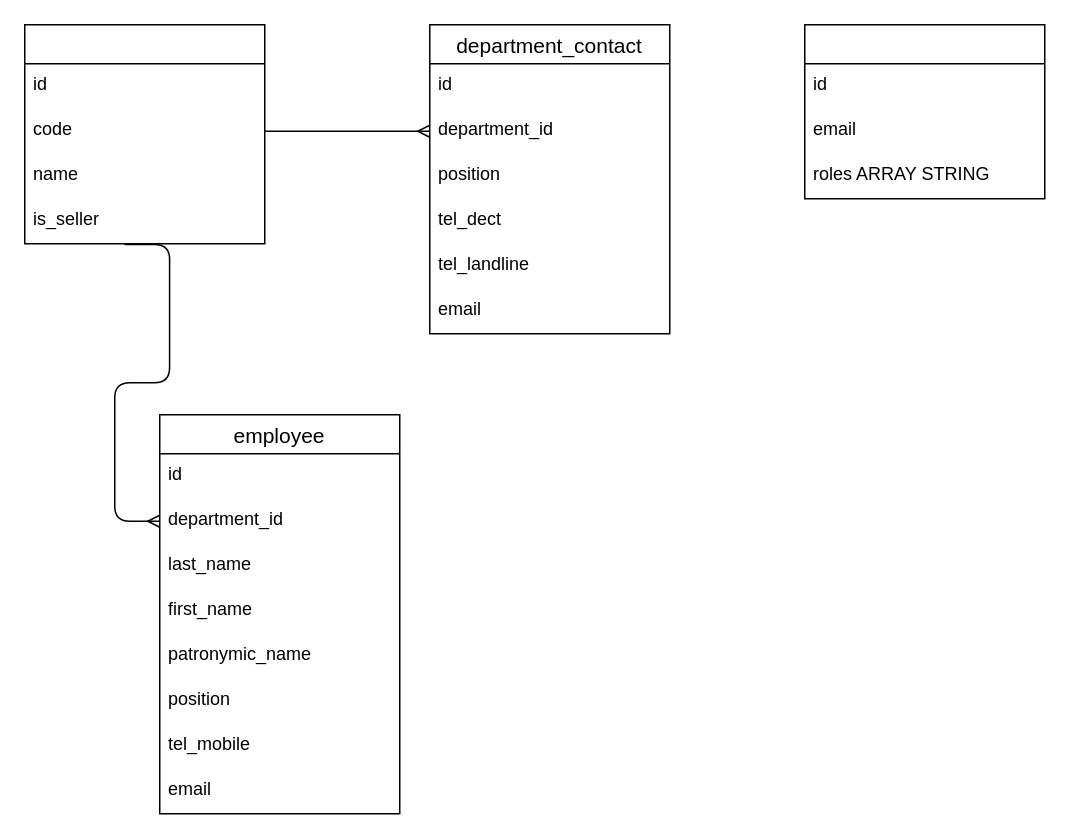
Image size: 1070x839. Some labels were removed from this diagram. The box of each missing label's shape, as (x1, y1, x2, y2) in pixels:
department: (23, 23, 265, 244)
User: (803, 23, 1045, 199)
